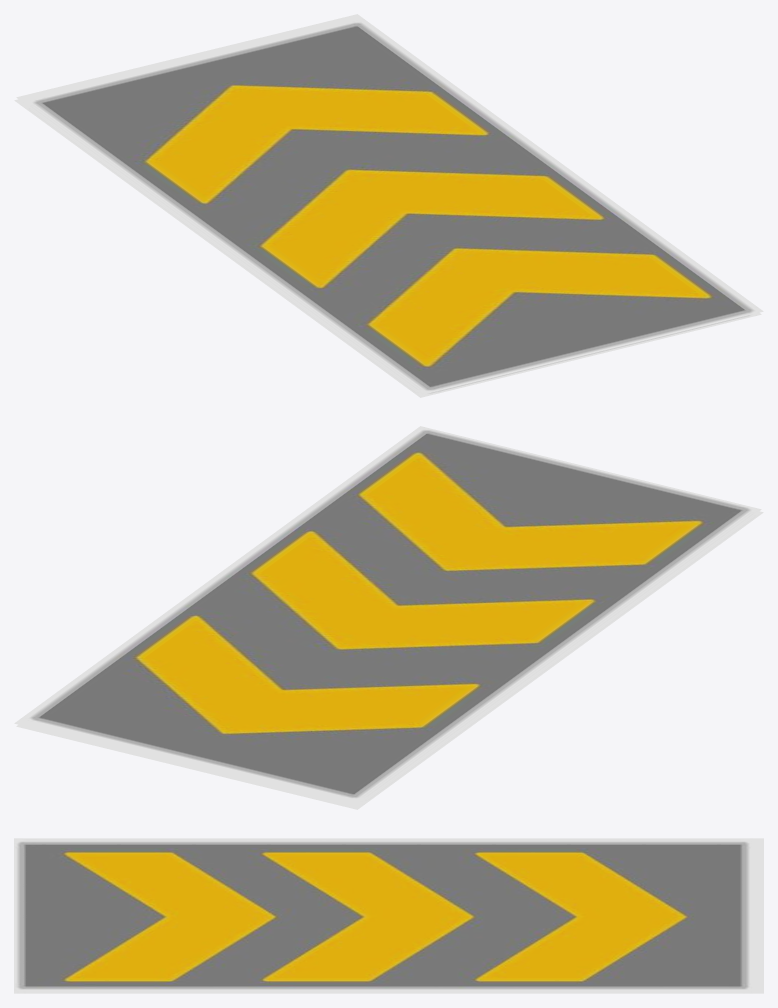
File: speed pad.fbx
3 views of the same model, one above another, from view 1: azimuth 30°, elevation 25°; view 2: azimuth 150°, elevation 25°; view 3: azimuth 270°, elevation 25° (orthographic). The views are drawn at different scales.
Visible parts, largest first — view 1: pPlane1, pPlane2; view 2: pPlane1, pPlane2; view 3: pPlane1, pPlane2.
Boxes of the visible parts, x1,y1,x2,y2 form: pPlane1: [16, 14, 763, 394]; pPlane2: [14, 99, 761, 397]; pPlane1: [14, 426, 761, 806]; pPlane2: [16, 511, 763, 809]; pPlane1: [14, 838, 763, 992]; pPlane2: [14, 992, 763, 993].
Bounding box in the file's own units: 13.57 × 0.0952 × 27.8.
2 materials, 2 textured.
